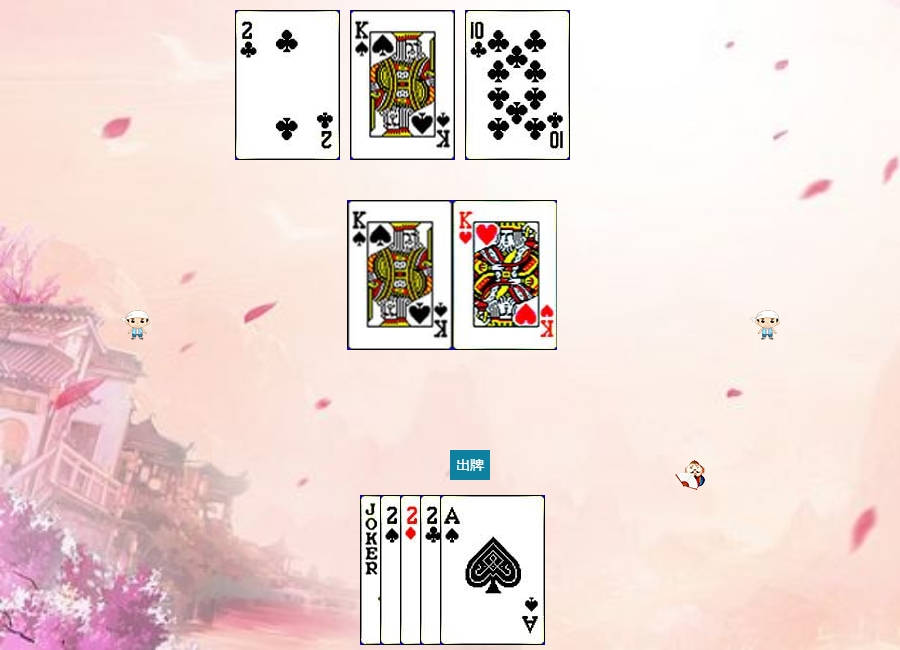10~2: (465, 10, 570, 160)
13~3: (453, 200, 558, 350)
13~4: (350, 10, 455, 160), (348, 200, 453, 350)
14~4: (440, 495, 545, 645)
15~1: (400, 495, 505, 645)
15~2: (235, 10, 340, 160), (420, 495, 525, 645)
15~4: (380, 495, 485, 645)
17~3: (360, 495, 465, 645)
